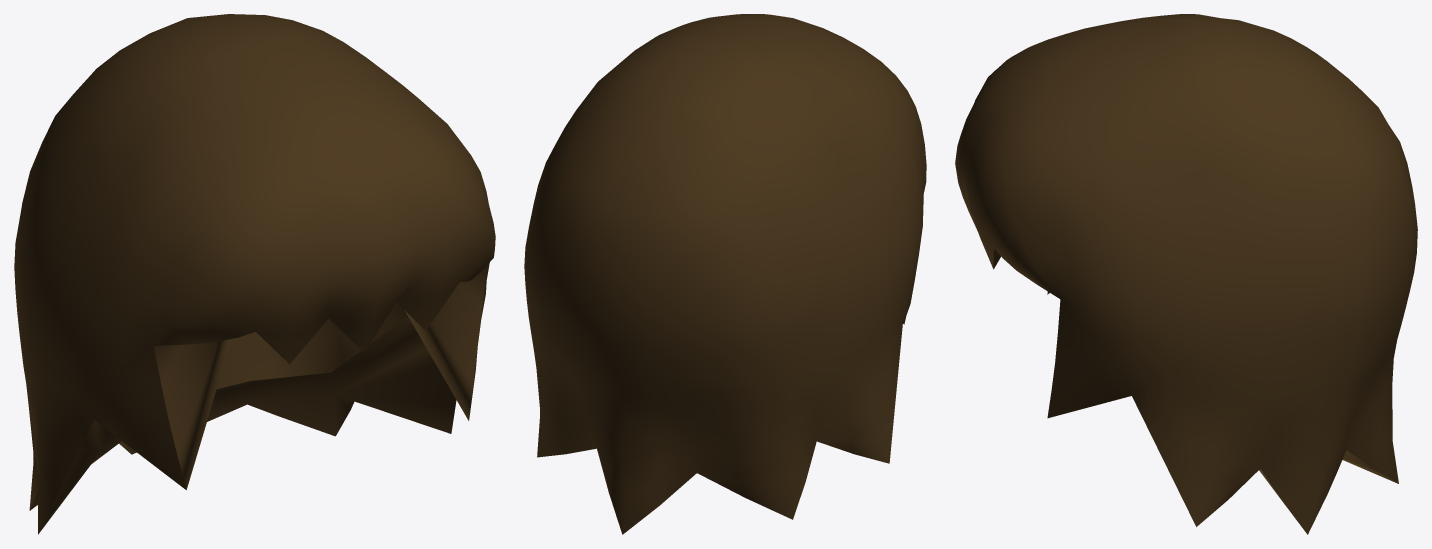
The model's file is hair_018.gltf.
The picture shows the model from 3 angles, left to right: view 1: azimuth 30°, elevation 25°; view 2: azimuth 150°, elevation 25°; view 3: azimuth 270°, elevation 25°; orthographic projection. The views are drawn at different scales.
Parts seen in each view (by area): view 1: hair.134; view 2: hair.134; view 3: hair.134.
Part boxes in pixels (x1,y1,x2,y2): hair.134: (14, 14, 495, 534); hair.134: (524, 14, 926, 534); hair.134: (955, 14, 1417, 534).
Size of the model in its own units: 0.1204 by 0.1404 by 0.1302.
